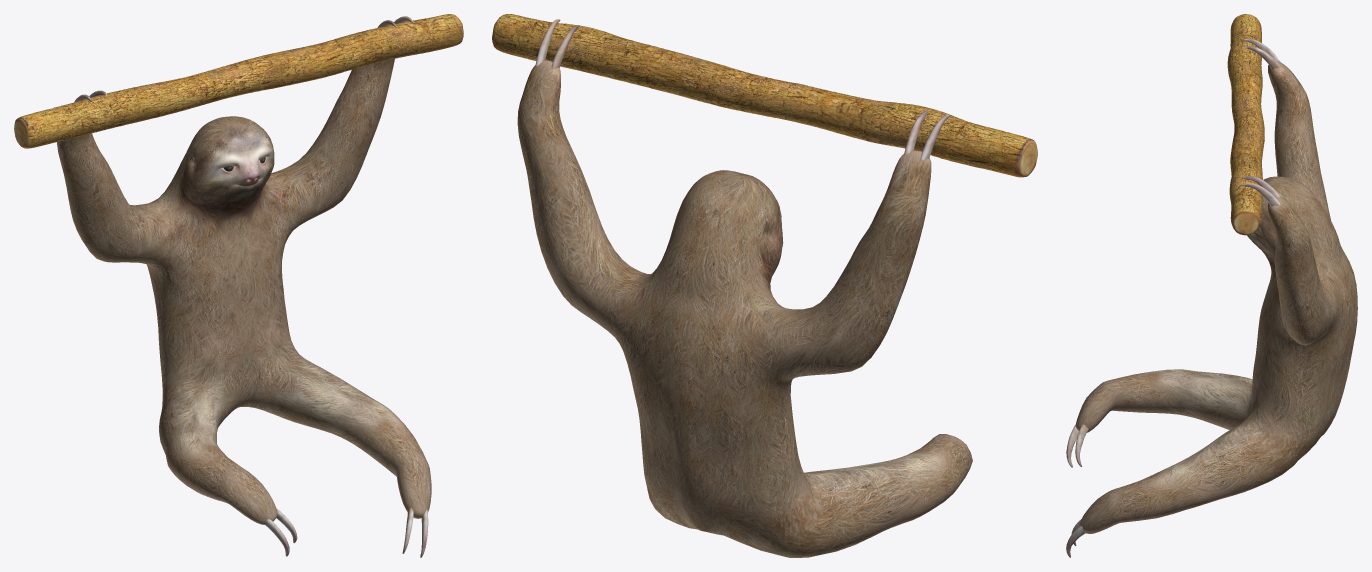
The model's file is OsoPerezosoDeDedos2.gltf.
The picture shows the model from 3 angles, left to right: view 1: azimuth 30°, elevation 25°; view 2: azimuth 150°, elevation 25°; view 3: azimuth 270°, elevation 25°; orthographic projection. The views are drawn at different scales.
Visible parts, largest first — view 1: OsoPerezoso; view 2: OsoPerezoso; view 3: OsoPerezoso.
Boxes of the visible parts, x1,y1,x2,y2 form: OsoPerezoso: (14, 14, 463, 557); OsoPerezoso: (492, 14, 1037, 557); OsoPerezoso: (1066, 14, 1357, 557).
Bounding box in the file's own units: 2.9 × 2.85 × 1.82.
Materials: 2 (2 with a texture image).
